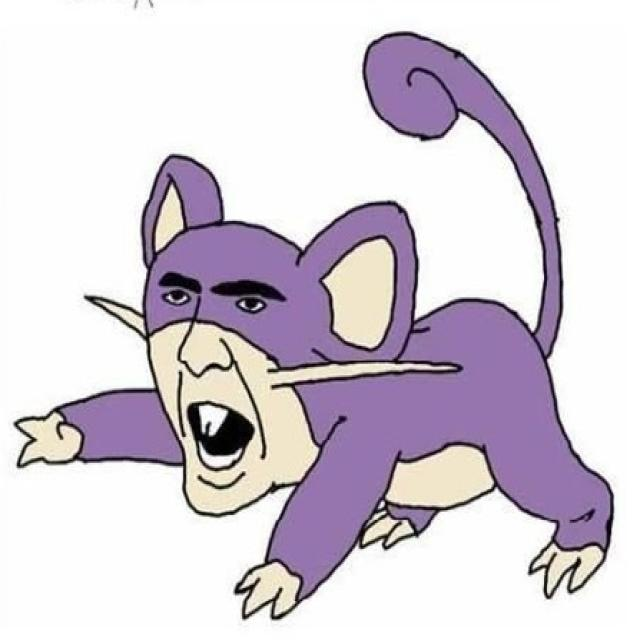Rattata: (138, 202, 575, 595)
